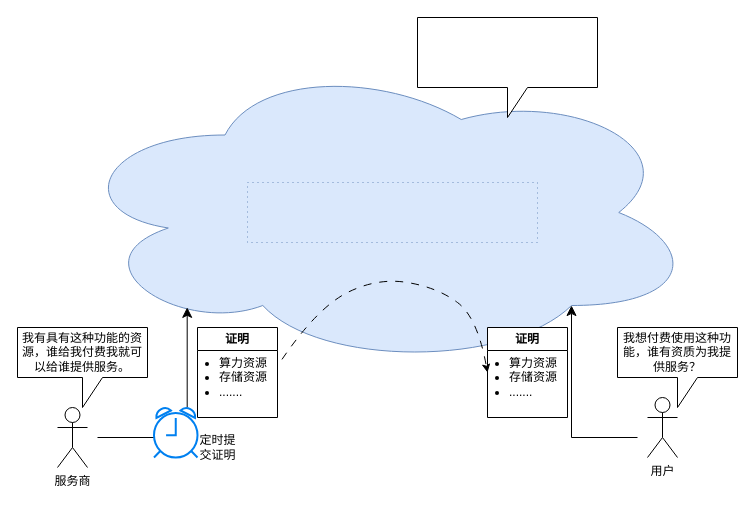
Some shapes in this 755 by 506 pixel diagram are drawn without their labels. Here are the shapes that lost their labels. From the top down, the box of each, then its label:
(416, 16, 598, 118): 我可以检查服务商提供的证明是否有效，并且匹配用户需求。我还会采取延迟支付等手段，避免欺诈行为。
(246, 182, 538, 242): 去中心化的AI网络
